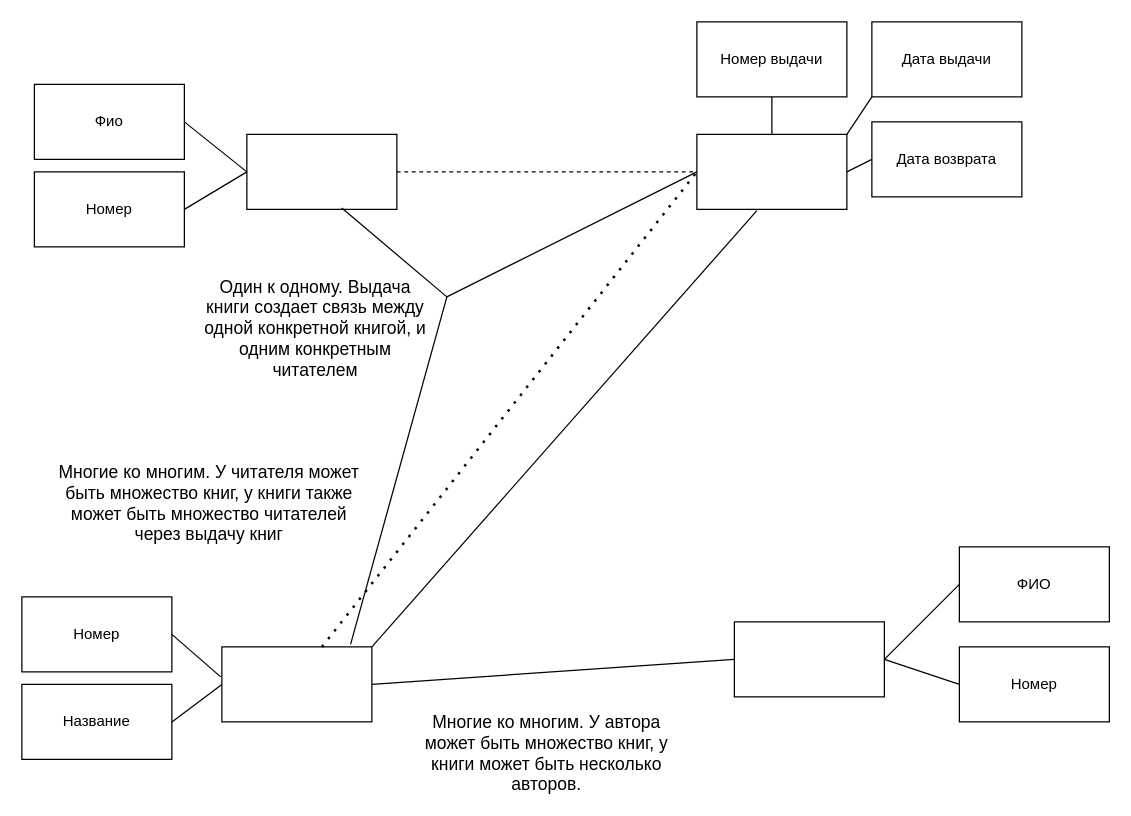
Image size: 1131x816. Some labels were removed from this diagram. The centre of each missing label's shape, as x and y in pixels:
"Автор" belongs at (808,659).
"Выдача книги" belongs at (771,171).
"Книга" belongs at (296,684).
"Читатель" belongs at (321,171).
